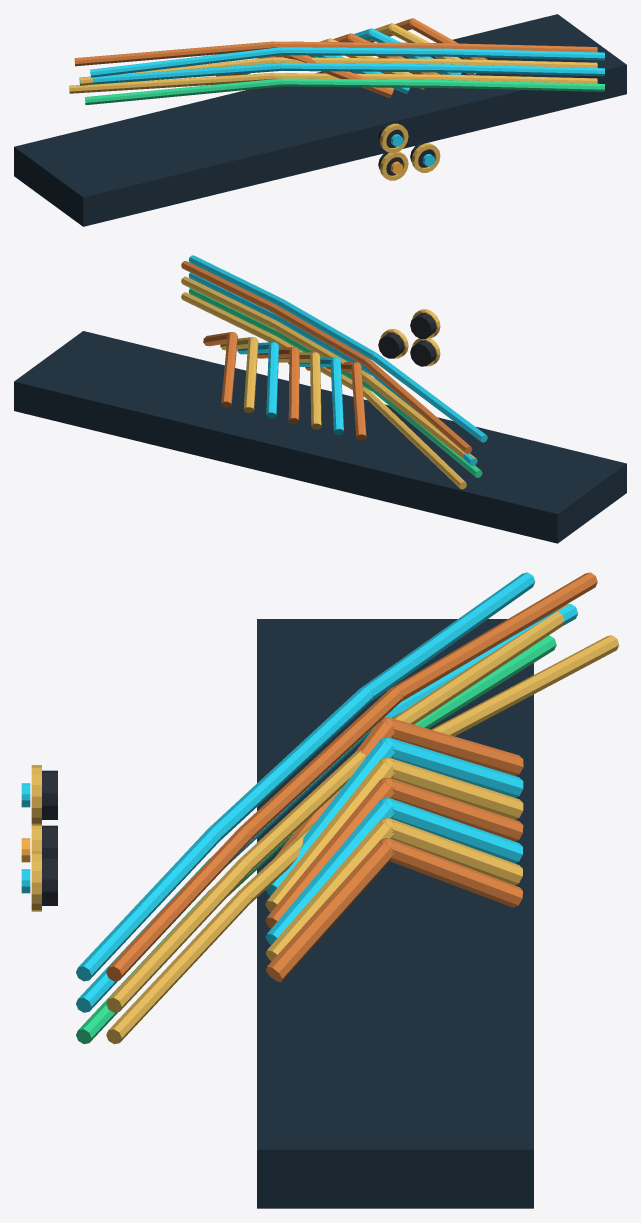
File: 15_L82_HighSpeedDifferentialCable.fbx
3 views of the same model, one above another, from view 1: azimuth 30°, elevation 25°; view 2: azimuth 150°, elevation 25°; view 3: azimuth 270°, elevation 25° (orthographic). The views are drawn at different scales.
Parts seen in each view (by area): view 1: HighSpeedDifferentialCable, HighSpeedDifferentialCable_Part_0032, HighSpeedDifferentialCable_Part_0050, HighSpeedDifferentialCable_Part_0047, HighSpeedDifferentialCable_Part_0044; view 2: HighSpeedDifferentialCable, HighSpeedDifferentialCable_Part_0031, HighSpeedDifferentialCable_Part_0034, HighSpeedDifferentialCable_Part_0037, HighSpeedDifferentialCable_Part_0040, HighSpeedDifferentialCable_Part_0043, HighSpeedDifferentialCable_Part_0049, HighSpeedDifferentialCable_Part_0046; view 3: HighSpeedDifferentialCable, HighSpeedDifferentialCable_Part_0050, HighSpeedDifferentialCable_Part_0049, HighSpeedDifferentialCable_Part_0037, HighSpeedDifferentialCable_Part_0031, HighSpeedDifferentialCable_Part_0034, HighSpeedDifferentialCable_Part_0046, HighSpeedDifferentialCable_Part_0043, HighSpeedDifferentialCable_Part_0040, HighSpeedDifferentialCable_Part_0038, HighSpeedDifferentialCable_Part_0041, HighSpeedDifferentialCable_Part_0044 (+3 smaller).
Boxes of the visible parts, box(x1,y1,x2,y2) form: HighSpeedDifferentialCable: box(14, 14, 626, 226); HighSpeedDifferentialCable_Part_0032: box(288, 55, 393, 97); HighSpeedDifferentialCable_Part_0050: box(410, 19, 487, 59); HighSpeedDifferentialCable_Part_0047: box(390, 24, 476, 75); HighSpeedDifferentialCable_Part_0044: box(369, 29, 461, 74); HighSpeedDifferentialCable: box(14, 255, 626, 543); HighSpeedDifferentialCable_Part_0031: box(351, 364, 366, 440); HighSpeedDifferentialCable_Part_0034: box(330, 359, 343, 435); HighSpeedDifferentialCable_Part_0037: box(310, 354, 321, 429); HighSpeedDifferentialCable_Part_0040: box(288, 349, 299, 424); HighSpeedDifferentialCable_Part_0043: box(266, 344, 278, 418); HighSpeedDifferentialCable_Part_0049: box(221, 334, 237, 407); HighSpeedDifferentialCable_Part_0046: box(243, 339, 258, 412); HighSpeedDifferentialCable: box(21, 572, 618, 1208); HighSpeedDifferentialCable_Part_0050: box(266, 841, 393, 981); HighSpeedDifferentialCable_Part_0049: box(390, 838, 522, 907); HighSpeedDifferentialCable_Part_0037: box(389, 757, 523, 819); HighSpeedDifferentialCable_Part_0031: box(389, 717, 523, 775); HighSpeedDifferentialCable_Part_0034: box(389, 737, 523, 797); HighSpeedDifferentialCable_Part_0046: box(389, 818, 522, 885); HighSpeedDifferentialCable_Part_0043: box(389, 798, 522, 863); HighSpeedDifferentialCable_Part_0040: box(389, 778, 523, 841); HighSpeedDifferentialCable_Part_0038: box(265, 760, 394, 912); HighSpeedDifferentialCable_Part_0041: box(265, 780, 394, 928); HighSpeedDifferentialCable_Part_0044: box(265, 800, 394, 944).
Size of the model in its own units: 290 by 53.5 by 138.
